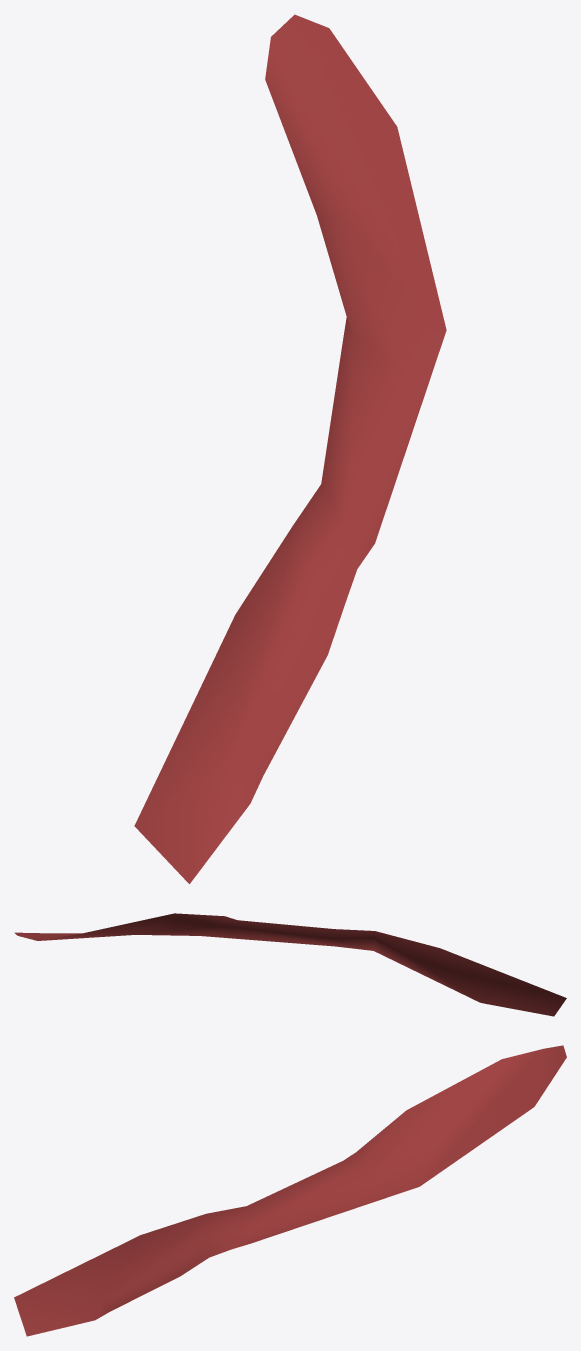
Rendered from thyrohyoid-muscle-ol.glb.
3 renders of one model, top to bottom at view 1: azimuth 30°, elevation 25°; view 2: azimuth 150°, elevation 25°; view 3: azimuth 330°, elevation 25°, orthographic. The views are drawn at different scales.
Visible parts, largest first — view 1: Thyrohyoid muscle.ol; view 2: Thyrohyoid muscle.ol; view 3: Thyrohyoid muscle.ol.
Part boxes in pixels (<box>): Thyrohyoid muscle.ol: <box>134,14,446,883</box>; Thyrohyoid muscle.ol: <box>14,913,566,1016</box>; Thyrohyoid muscle.ol: <box>14,1045,566,1336</box>.
Size of the model in its own units: 0.0102 by 0.00556 by 0.0131.
